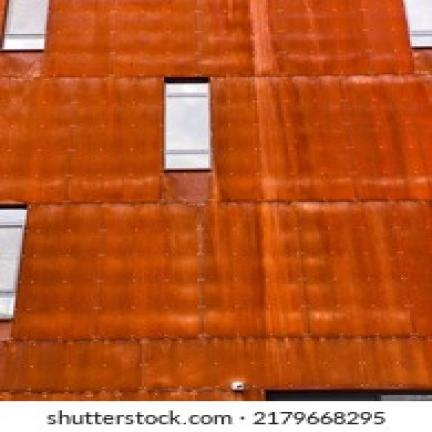karat: (0, 0, 430, 401)
